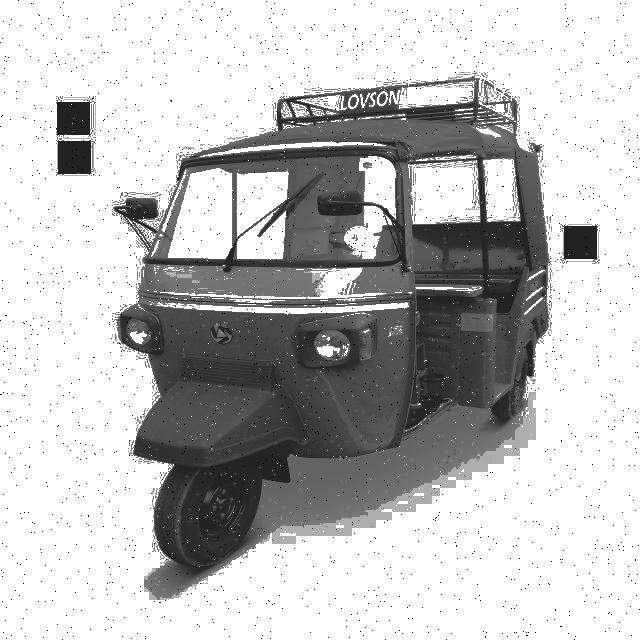Auto-Rickshaw: (41, 92, 633, 608)
